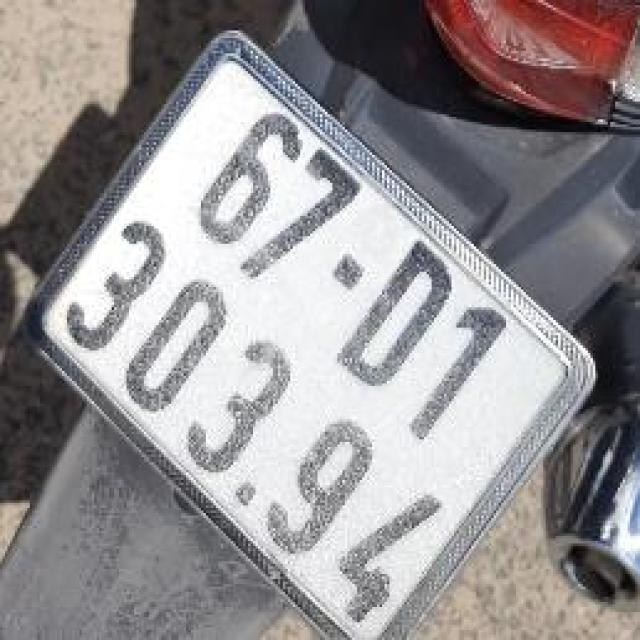0: (114, 263, 243, 430)
1: (390, 281, 521, 459)
3: (170, 323, 307, 488), (55, 205, 181, 368)
4: (312, 468, 468, 637)
6: (178, 94, 319, 268)
7: (219, 141, 378, 303)
9: (247, 399, 392, 570)
D: (321, 230, 473, 405)
